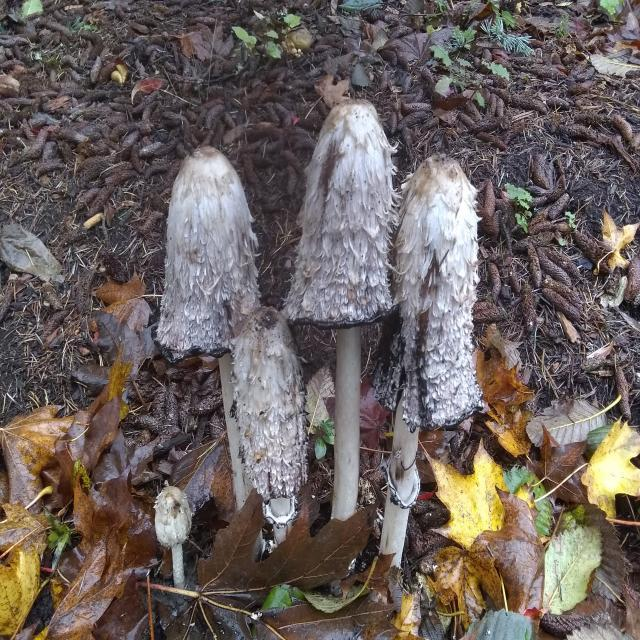Coprinus comatus: (286, 100, 395, 518), (374, 152, 479, 561), (157, 149, 259, 508), (244, 308, 307, 543), (153, 481, 191, 576)
